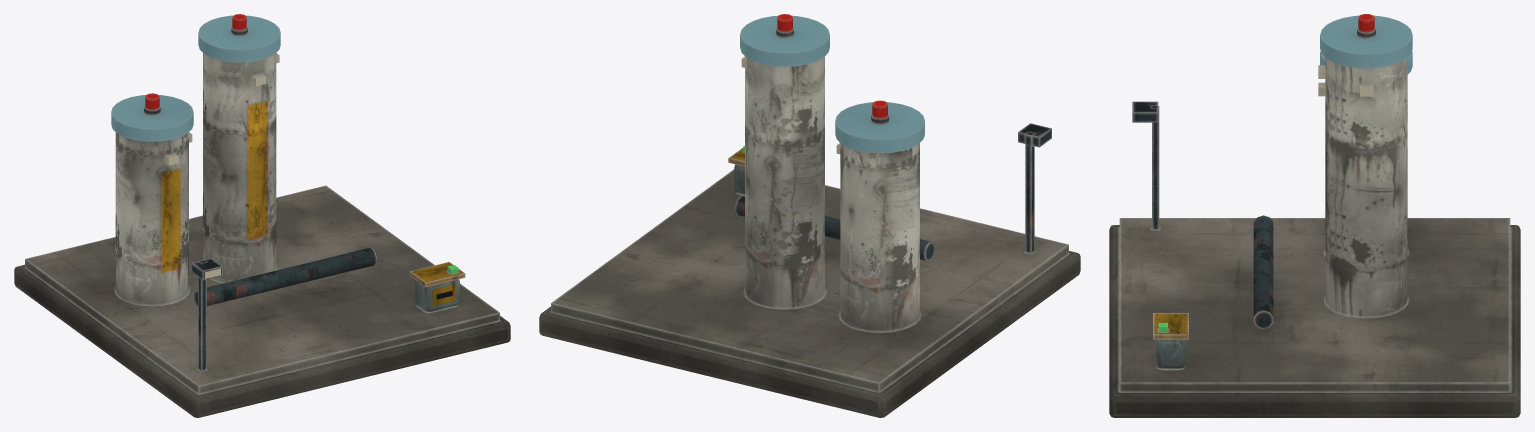
Rendered from water_synthesizer.glb.
3 views of the same model, side by side, from view 1: azimuth 30°, elevation 25°; view 2: azimuth 150°, elevation 25°; view 3: azimuth 270°, elevation 25° (orthographic). The views are drawn at different scales.
Visible parts, largest first — view 1: te_water_synthesizer; view 2: te_water_synthesizer; view 3: te_water_synthesizer.
Part boxes in pixels (box(x1,y1,x2,y2)): te_water_synthesizer: box(14, 14, 510, 417); te_water_synthesizer: box(539, 14, 1080, 417); te_water_synthesizer: box(1109, 14, 1520, 417).
Size of the model in its own units: 0.8 by 0.6776 by 0.8.
1 material, 1 textured.
